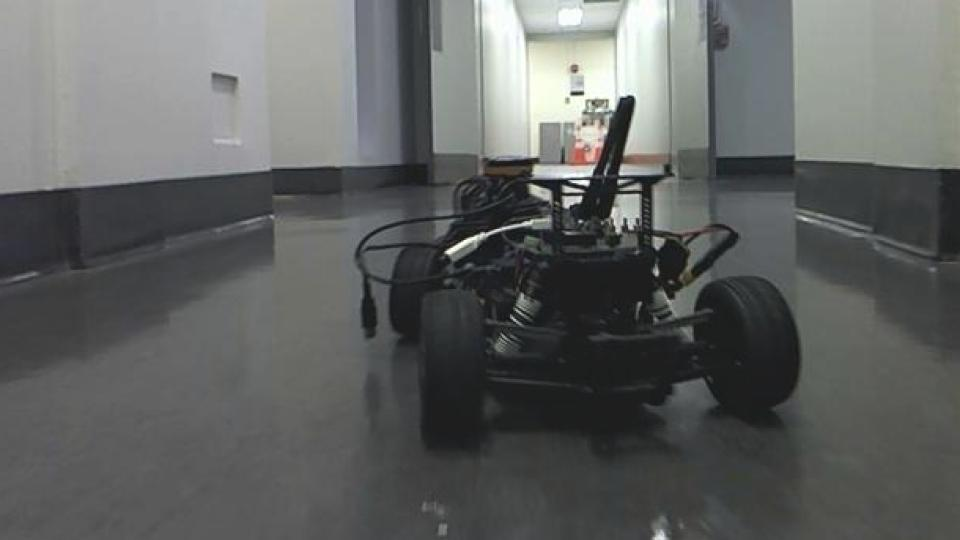car: (351, 91, 804, 447)
